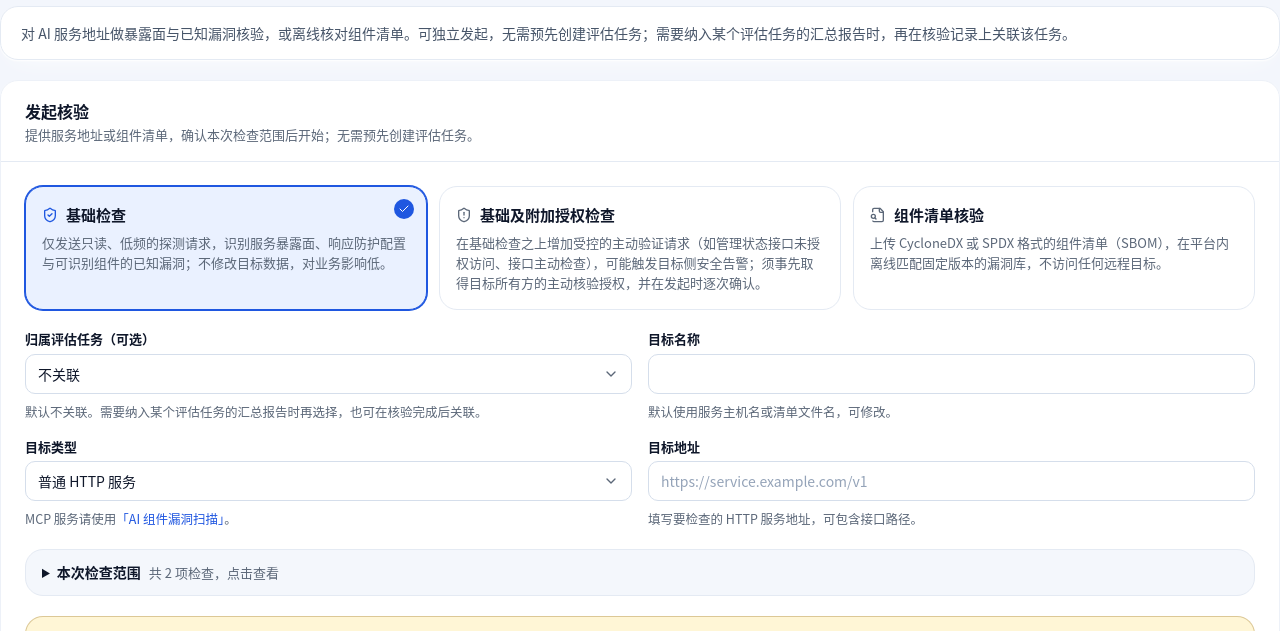
ServiceAssurancePage › 列表延迟更新时保持选中新建运行（跨任务：false）
Type "https://customer.example.test/v1" into the field labelled "目标地址".
click(952, 481); type("https://customer.example.test/v1")  # box [648,461,1255,501]
(page scrolled)
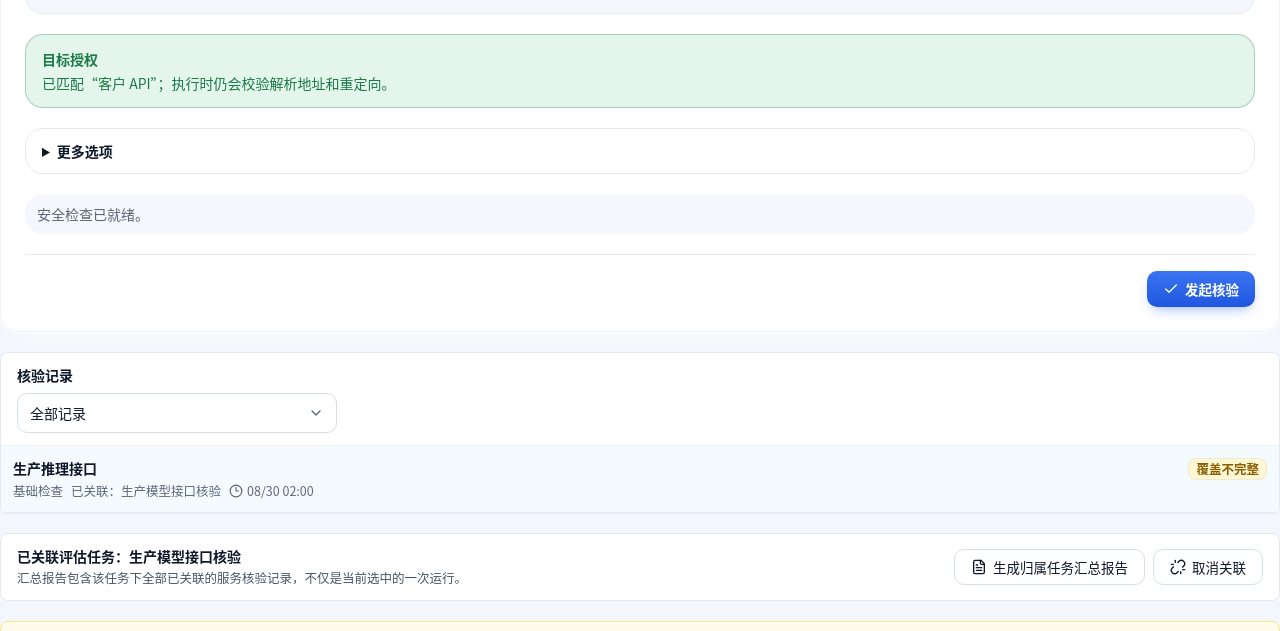
Click the button "发起核验".
click(1201, 289)  # box [1147,271,1255,307]
(page scrolled)
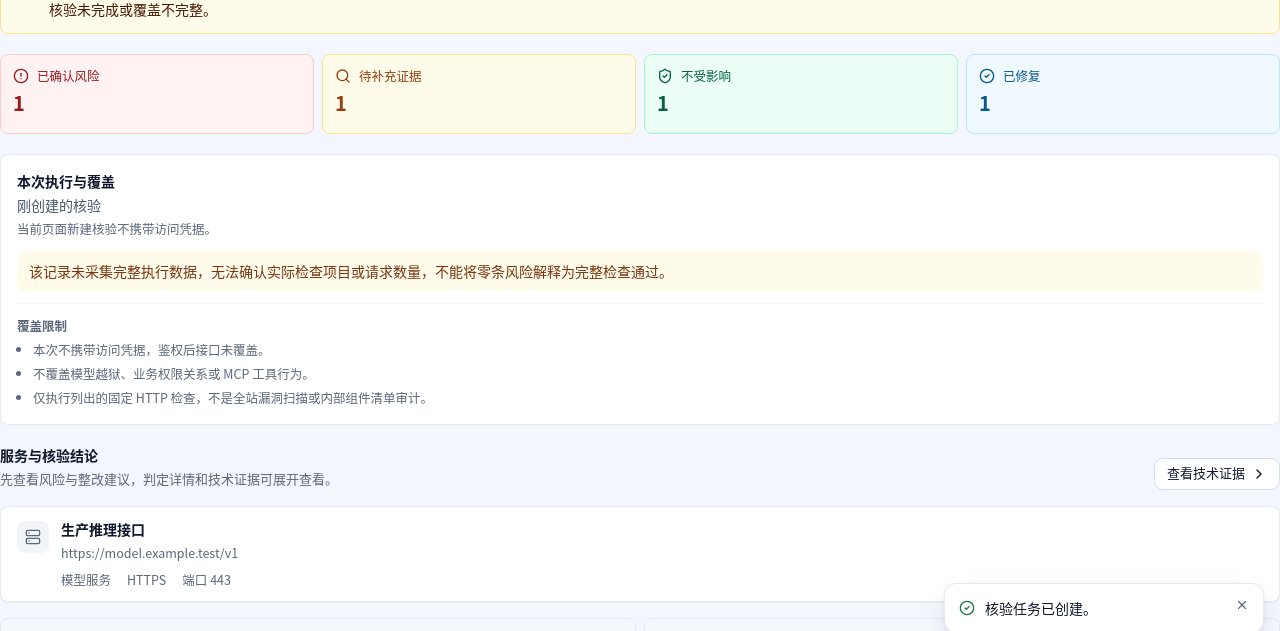
Expected: the element "本次执行与覆盖" shows "刚创建的核验", [17,195,101,215]
